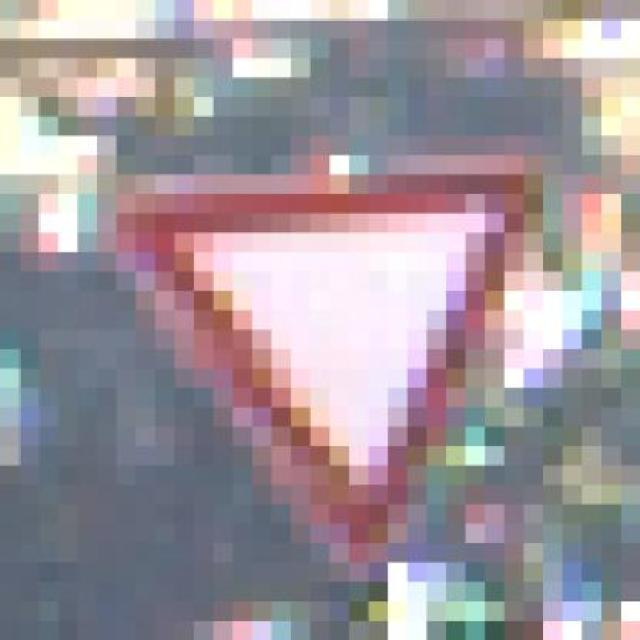Give Way: (116, 97, 562, 601)
